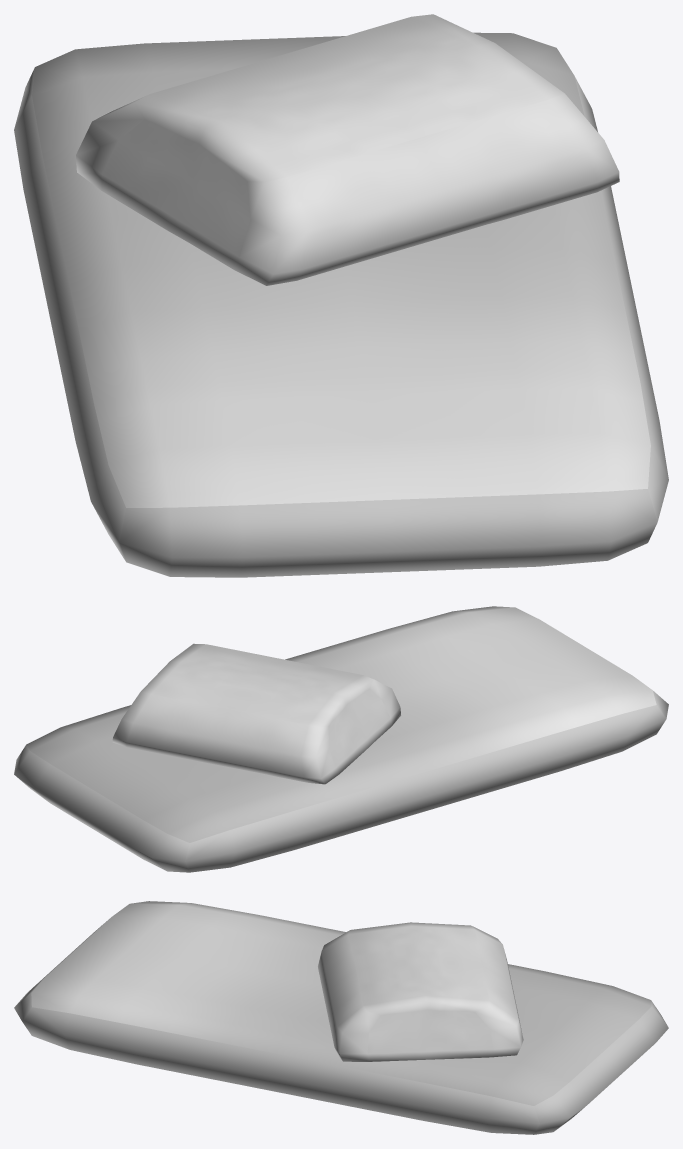
3 views of the same model, one above another, from view 1: azimuth 30°, elevation 25°; view 2: azimuth 150°, elevation 25°; view 3: azimuth 270°, elevation 25° (orthographic). The views are drawn at different scales.
Parts seen in each view (by area): view 1: Cube178_fabric_wrinkles_0; view 2: Cube178_fabric_wrinkles_0; view 3: Cube178_fabric_wrinkles_0.
Part boxes in pixels (x1,y1,x2,y2): Cube178_fabric_wrinkles_0: (14,14,668,577); Cube178_fabric_wrinkles_0: (14,606,668,872); Cube178_fabric_wrinkles_0: (14,901,668,1134).
Bounding box in the file's own units: 1.58 × 0.3721 × 2.07.
1 material, 1 textured.
